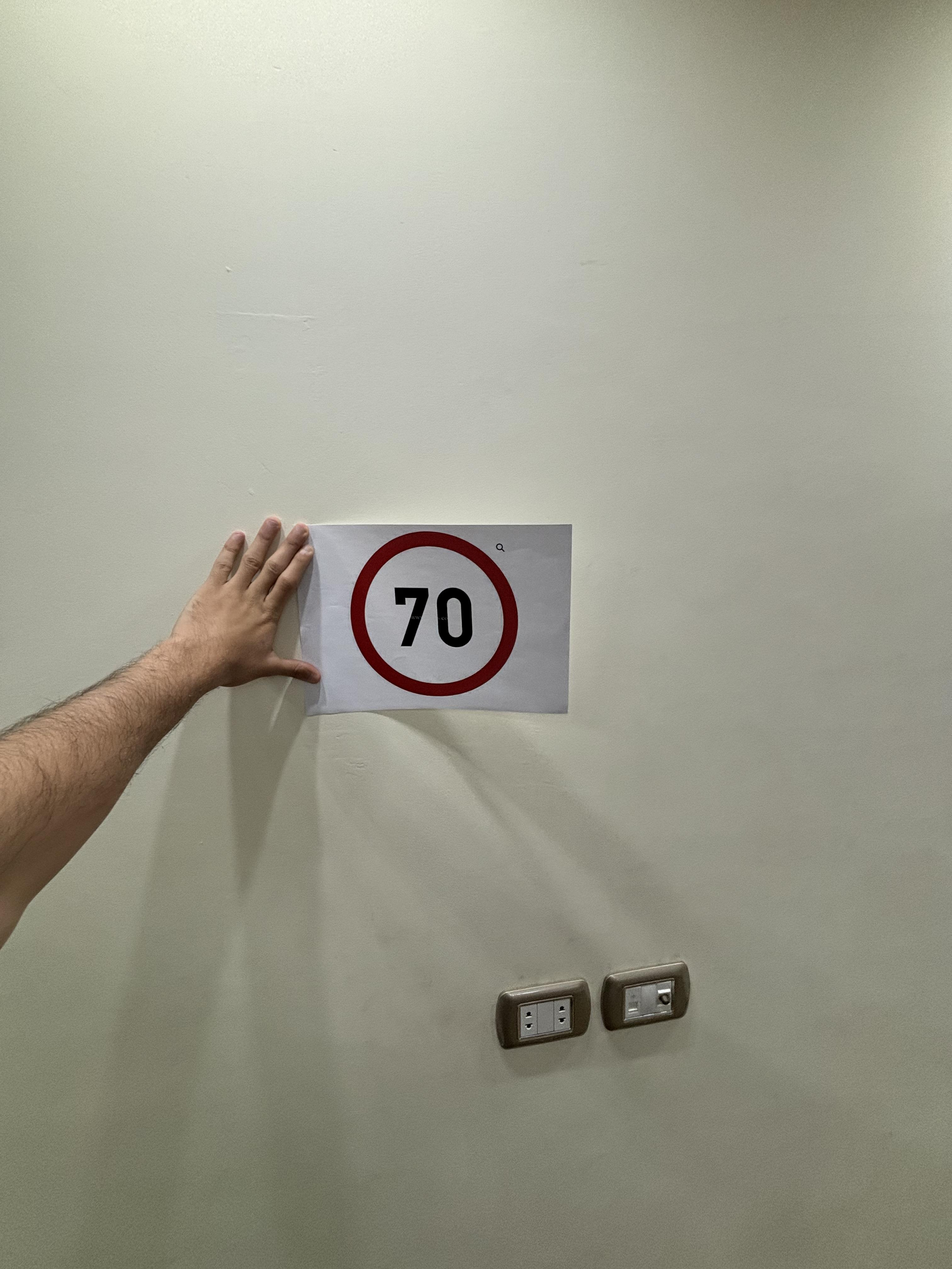70-Speed: (350, 529, 522, 696)
